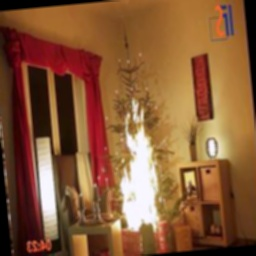fire: (103, 99, 172, 237)
